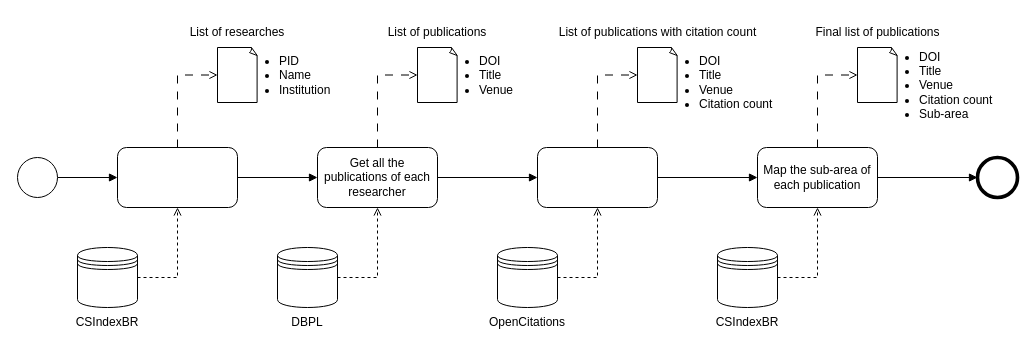
The diagram is 1036 pixels wide and 354 high, and some of its shapes have lost their labels. The shapes that lost their labels are listed below. From the top down, each one's centre as x and y in pixels, then its label:
At (x=177, y=177): "Get data of Brazilian CS researchers".
At (x=597, y=177): "Get the citation count of each publication".
